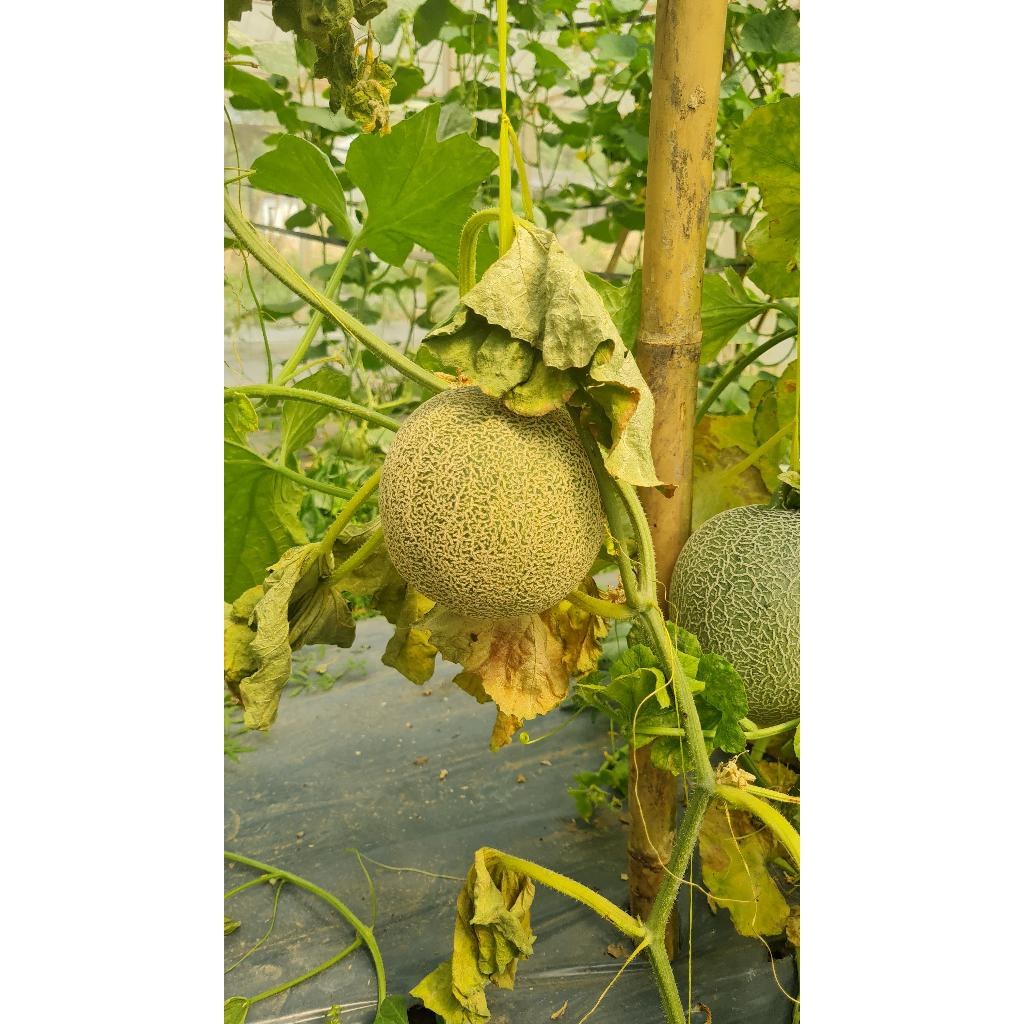melon: (378, 386, 604, 620), (670, 504, 800, 724)
